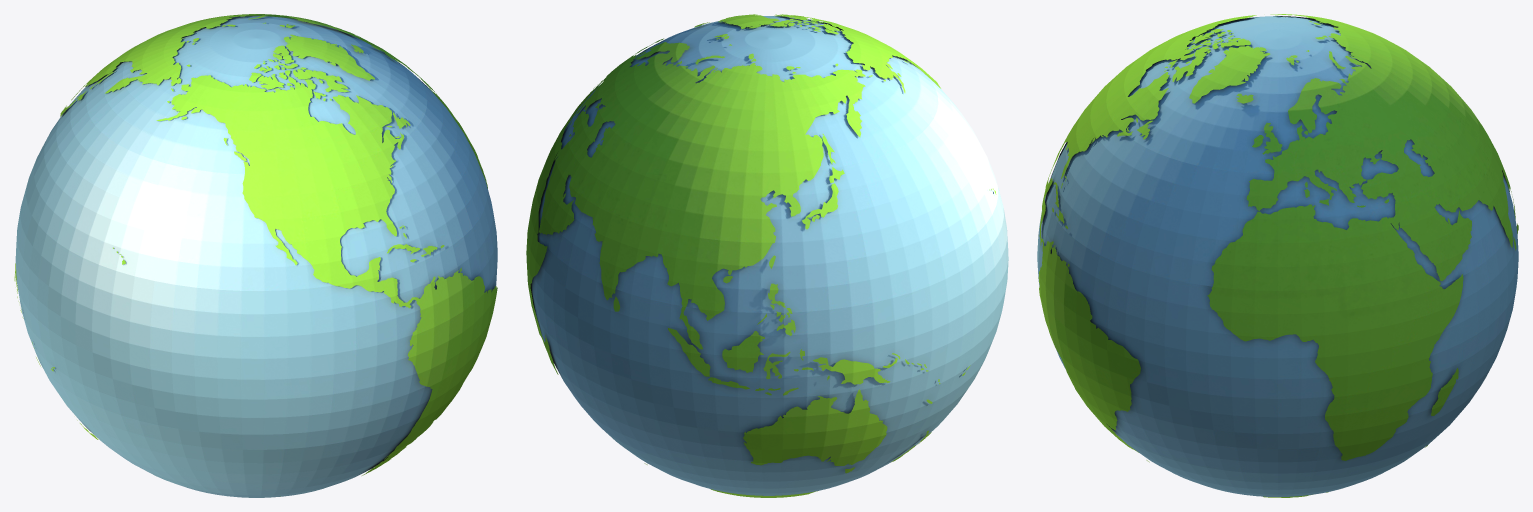
The model's file is earth.glb.
3 renders of one model, left to right at view 1: azimuth 30°, elevation 25°; view 2: azimuth 150°, elevation 25°; view 3: azimuth 270°, elevation 25°, orthographic.
Visible parts, largest first — view 1: Object_3, Object_2; view 2: Object_3, Object_2; view 3: Object_3, Object_2.
Part boxes in pixels (left/top/right/bottom): Object_3: left=14, top=14, right=497, bottom=496; Object_2: left=15, top=183, right=497, bottom=497; Object_3: left=526, top=14, right=998, bottom=497; Object_2: left=530, top=187, right=1008, bottom=495; Object_3: left=1038, top=14, right=1518, bottom=497; Object_2: left=1037, top=192, right=1518, bottom=496.
Bounding box in the file's own units: 13262 × 13305 × 13237.
Materials: 2 (2 with a texture image).
